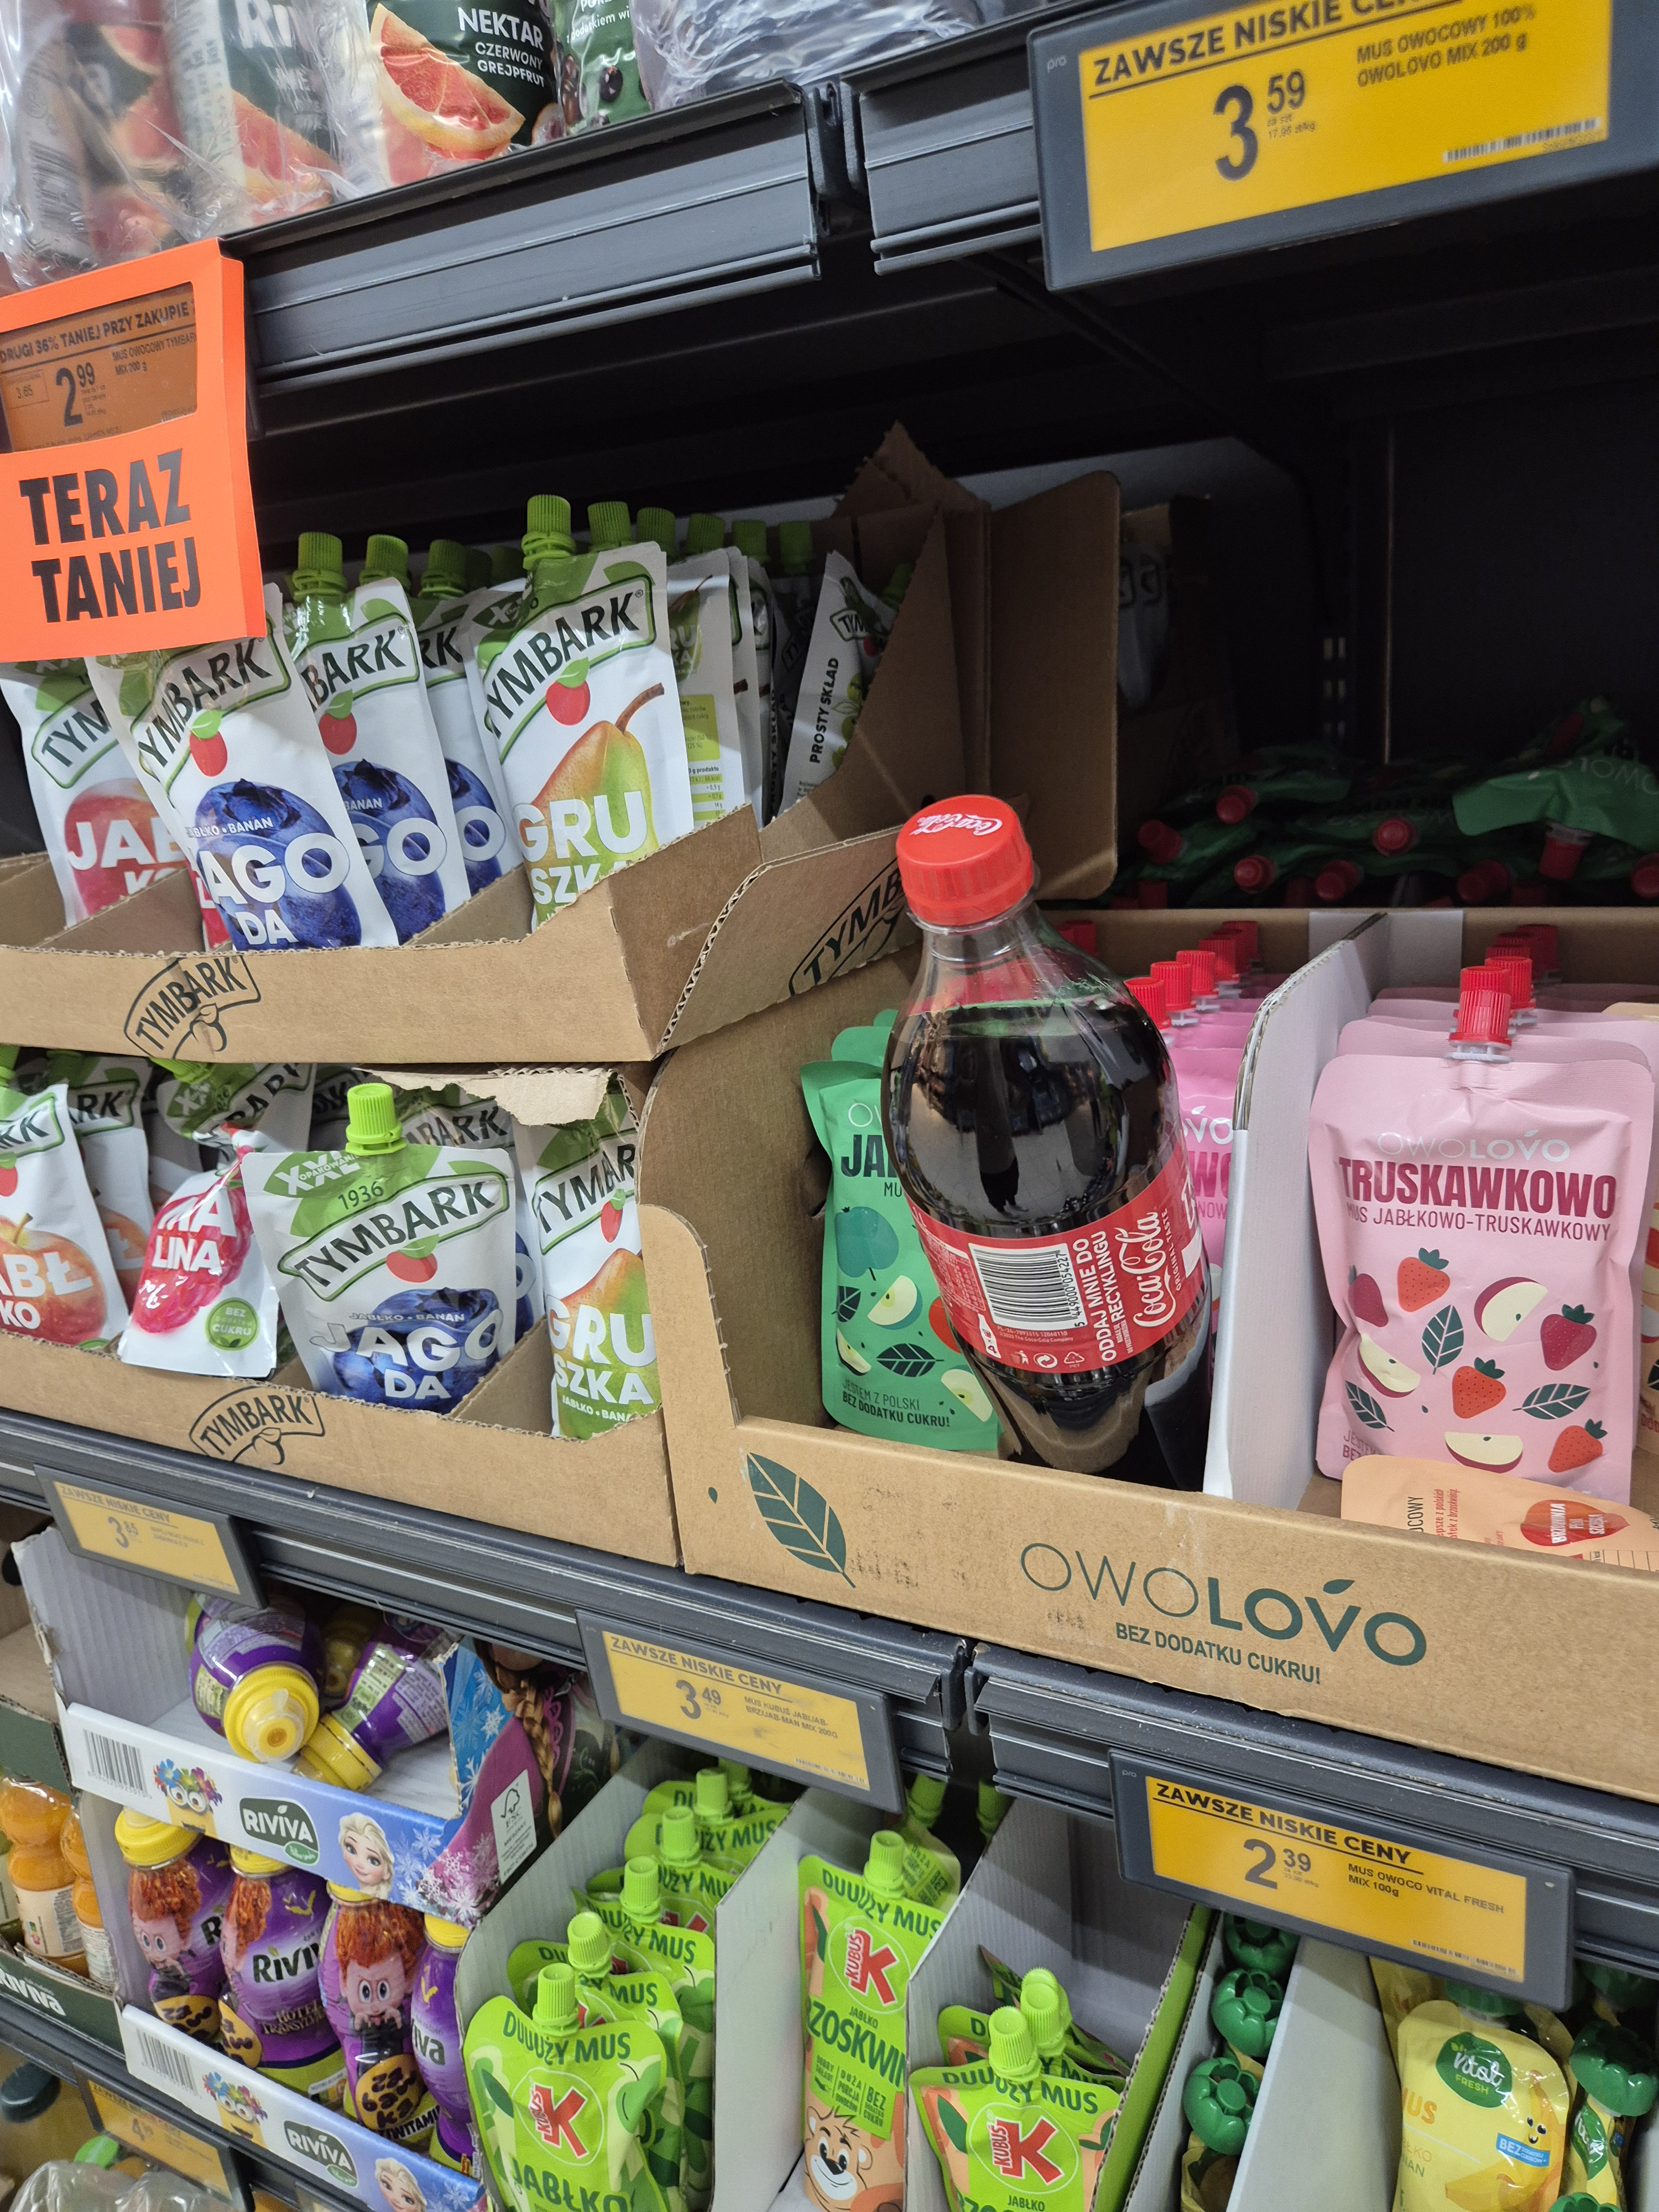Coca Cola: (871, 784, 1256, 1503)
